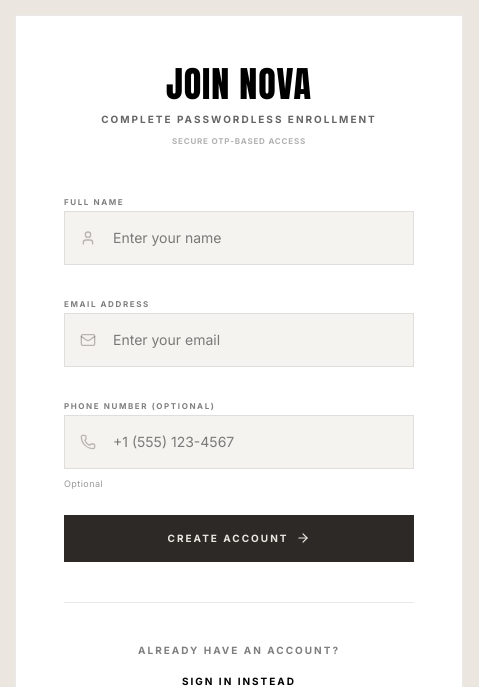
Test case: Signup › sends OTP and advances to step 2
Type "Test User" into the field with placeholder "Enter your name" at (239,238), box [64,211,414,265]
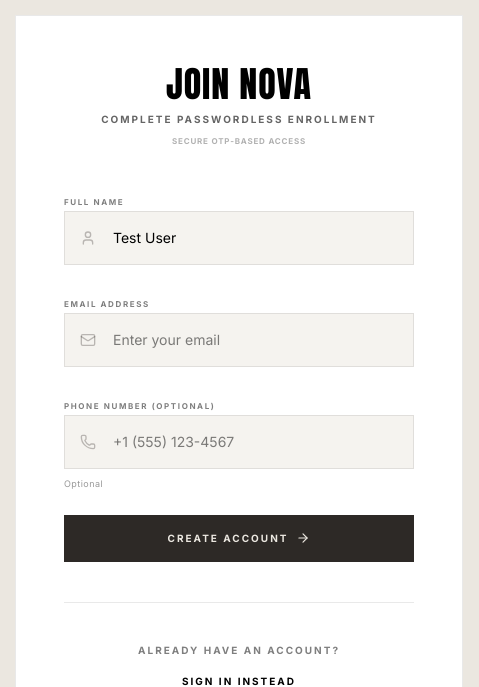
Type "test@test.com" into the field with placeholder "Enter your email" at (239,340), box [64,313,414,367]
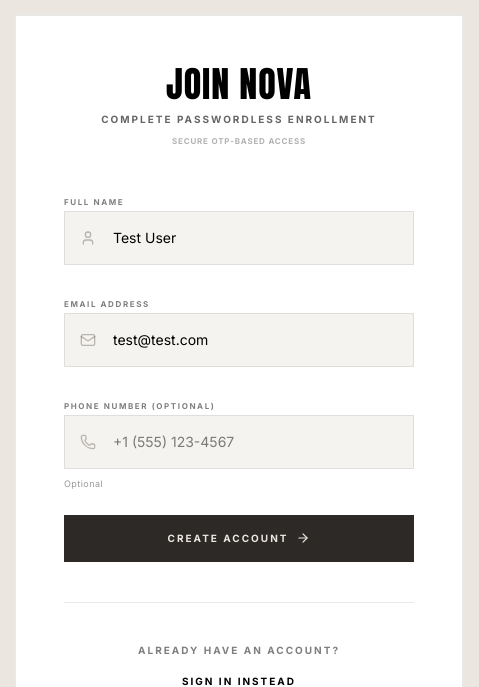
Click the button "Create Account" at (239,538), box [64,514,414,562]
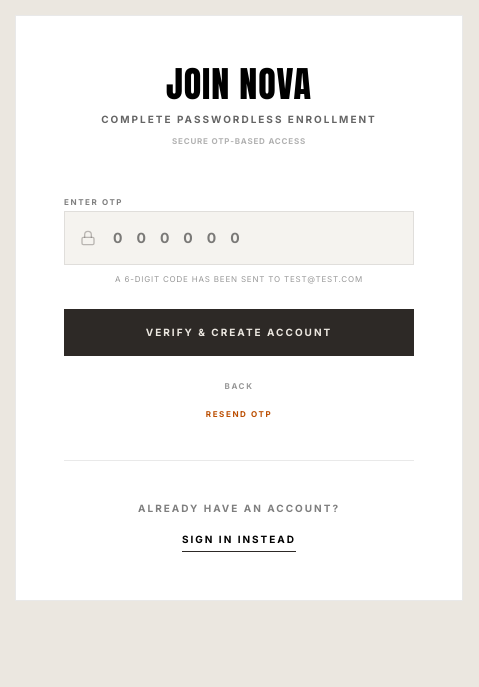
Check: the button "Verify & Create Account" is shown, box [64,309,414,356]
